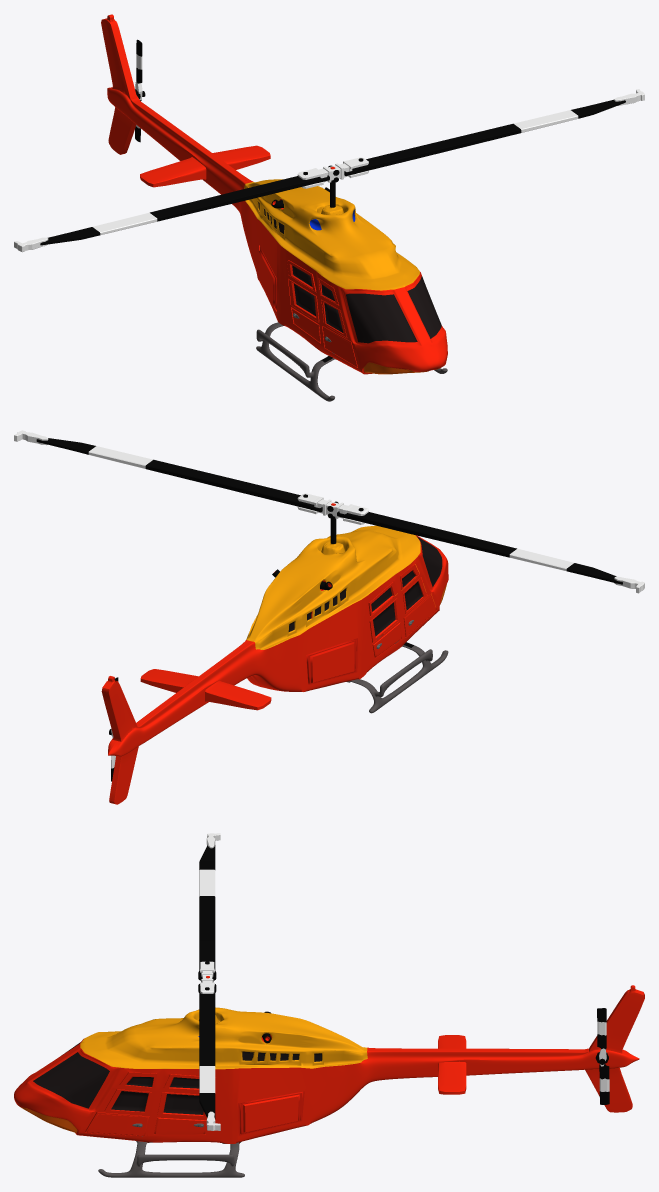
The model's file is helicopter.glb.
3 views of the same model, one above another, from view 1: azimuth 30°, elevation 25°; view 2: azimuth 150°, elevation 25°; view 3: azimuth 270°, elevation 25° (orthographic). The views are drawn at different scales.
Visible parts, largest first — view 1: body_helicopter_4, main_rotor, main_rotor_head, body_helicopter.001_28; view 2: body_helicopter_4, main_rotor, main_rotor_head, body_helicopter.001_28; view 3: body_helicopter_4, main_rotor, body_helicopter.001_28, main_rotor_head, tail_rotor.
Boxes of the visible parts, x1,y1,x2,y2 form: body_helicopter_4: (101, 14, 447, 374); main_rotor: (40, 99, 625, 245); main_rotor_head: (14, 89, 644, 252); body_helicopter.001_28: (256, 322, 447, 401); body_helicopter_4: (101, 503, 448, 804); main_rotor: (36, 438, 622, 584); main_rotor_head: (14, 430, 644, 593); body_helicopter.001_28: (346, 634, 448, 713); body_helicopter_4: (14, 976, 644, 1143); main_rotor: (198, 844, 216, 1118); body_helicopter.001_28: (98, 1136, 244, 1177); main_rotor_head: (199, 833, 220, 1130); tail_rotor: (597, 1008, 609, 1104).
Size of the model in its own units: 8.88 by 2.49 by 8.1.
